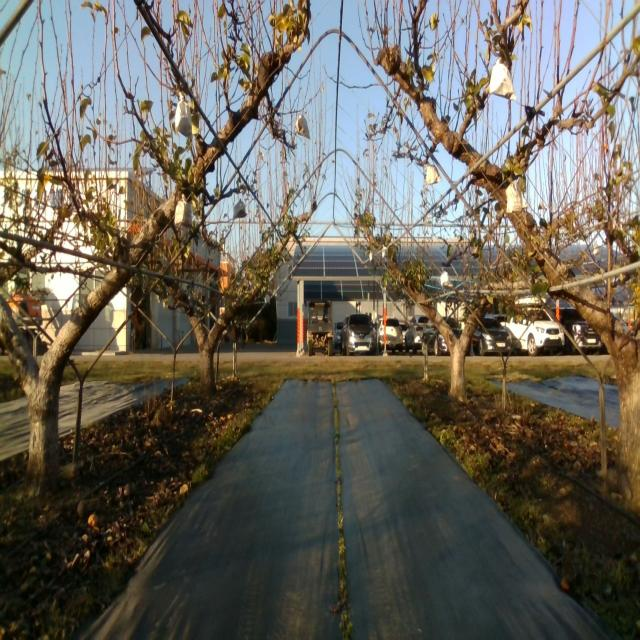pearbags: (489, 58, 517, 101), (505, 180, 528, 215), (175, 90, 192, 137), (175, 195, 192, 228), (296, 114, 310, 140), (232, 198, 248, 220), (426, 162, 441, 185), (440, 266, 451, 288)
